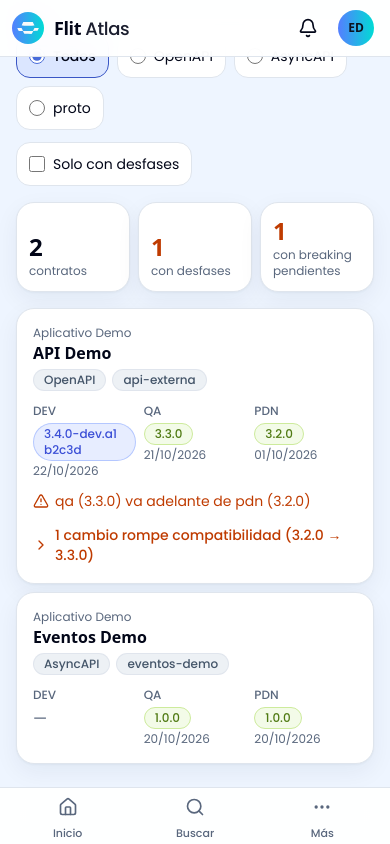
Test case: pantalla Consolidado › muestra el resumen, la versión por ambiente, los desfases y los breaking pendientes
This screenshot has width=390, height=844.
(page scrolled)
Expected: the text "3.4.0-dev.a1b2c3d" is shown, left=44, top=426, right=125, bottom=458
Expected: the text "3.2.0" is shown, left=265, top=426, right=293, bottom=442
Click the heading "1 cambio rompe compatibilidad (3.2.0 → 3.3.0)" at (195, 545), box left=33, top=523, right=357, bottom=567
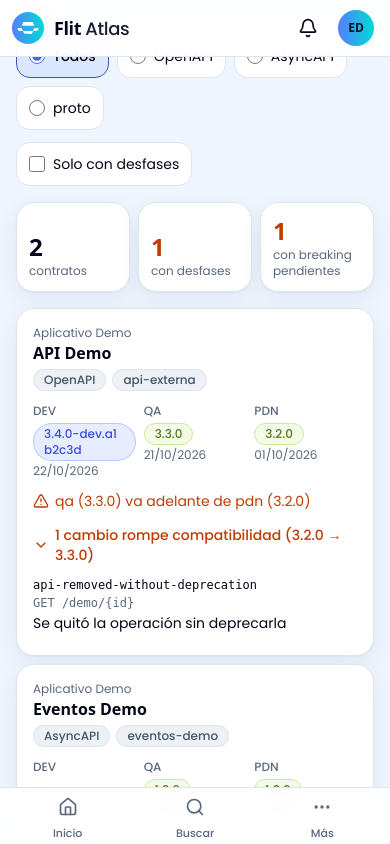
Expected: the text "—" is shown, left=33, top=779, right=47, bottom=802
Expected: the text "api-removed-without-deprecation" is shown, left=33, top=578, right=257, bottom=592
Expected: the text "GET /demo/{id}" is shown, left=33, top=596, right=134, bottom=610
